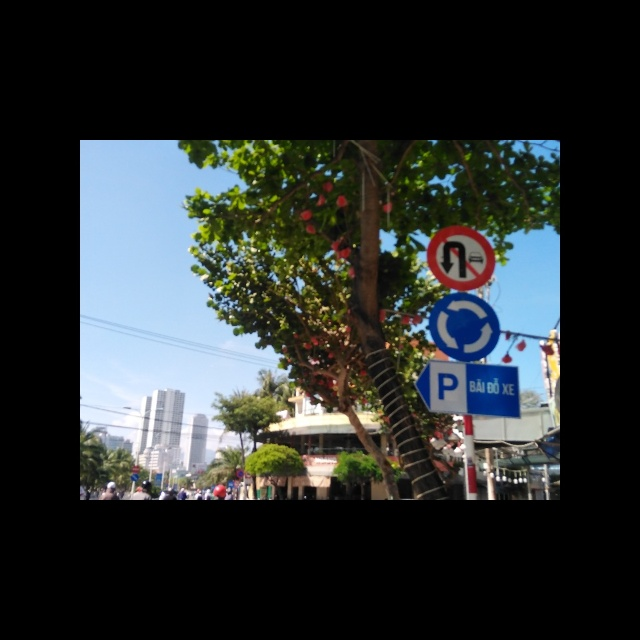Cấm xe ô tô quay đầu: (428, 227, 498, 289)
Nơi giao nhau chạy theo vòng xuyến: (427, 294, 501, 362)
Nơi đỗ xe: (414, 362, 522, 419)
